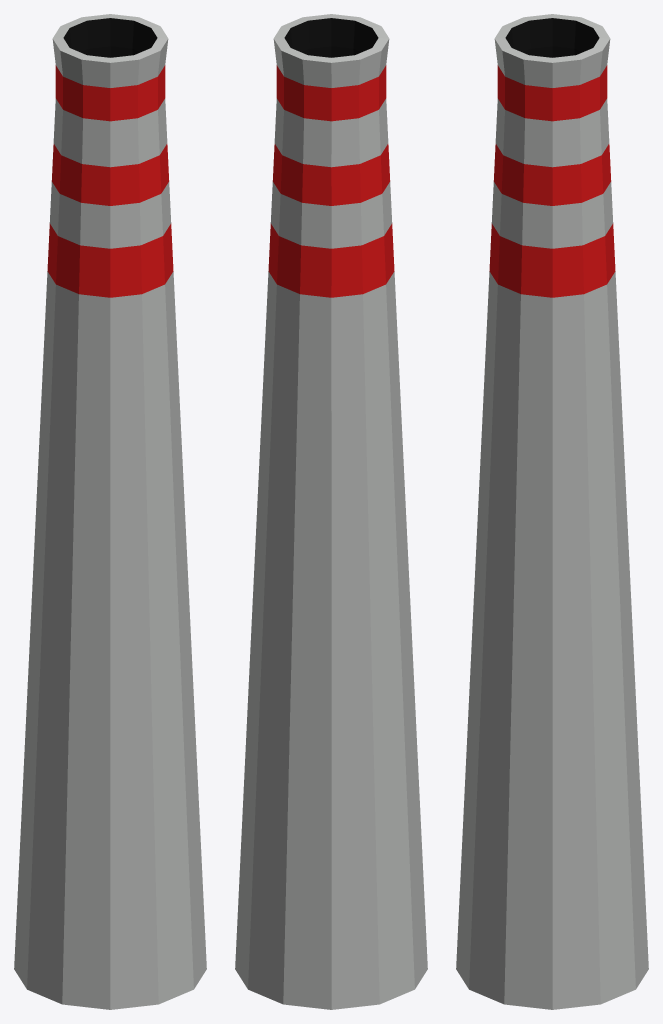
The model's file is SM_Factory_Smoke_pipe_01.glb.
3 views of the same model, side by side, from view 1: azimuth 30°, elevation 25°; view 2: azimuth 150°, elevation 25°; view 3: azimuth 270°, elevation 25° (orthographic).
Visible parts, largest first — view 1: SM_Factory_Smoke_pipe_01; view 2: SM_Factory_Smoke_pipe_01; view 3: SM_Factory_Smoke_pipe_01.
Part boxes in pixels (x1,y1,x2,y2): SM_Factory_Smoke_pipe_01: [14, 14, 206, 1009]; SM_Factory_Smoke_pipe_01: [235, 14, 427, 1009]; SM_Factory_Smoke_pipe_01: [456, 14, 648, 1009].
Size of the model in its own units: 2.85 by 15.21 by 2.85.
Materials: 1 (1 with a texture image).
